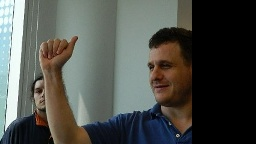Pugno: (32, 34, 81, 71)
